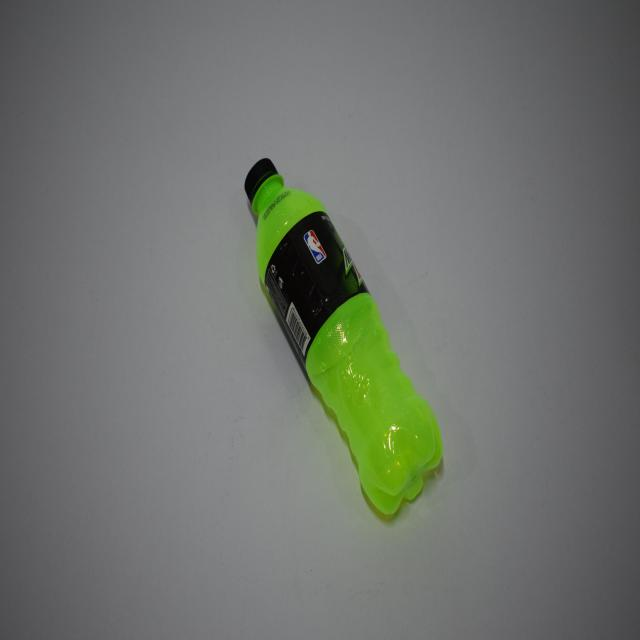bottle: (244, 150, 445, 528)
